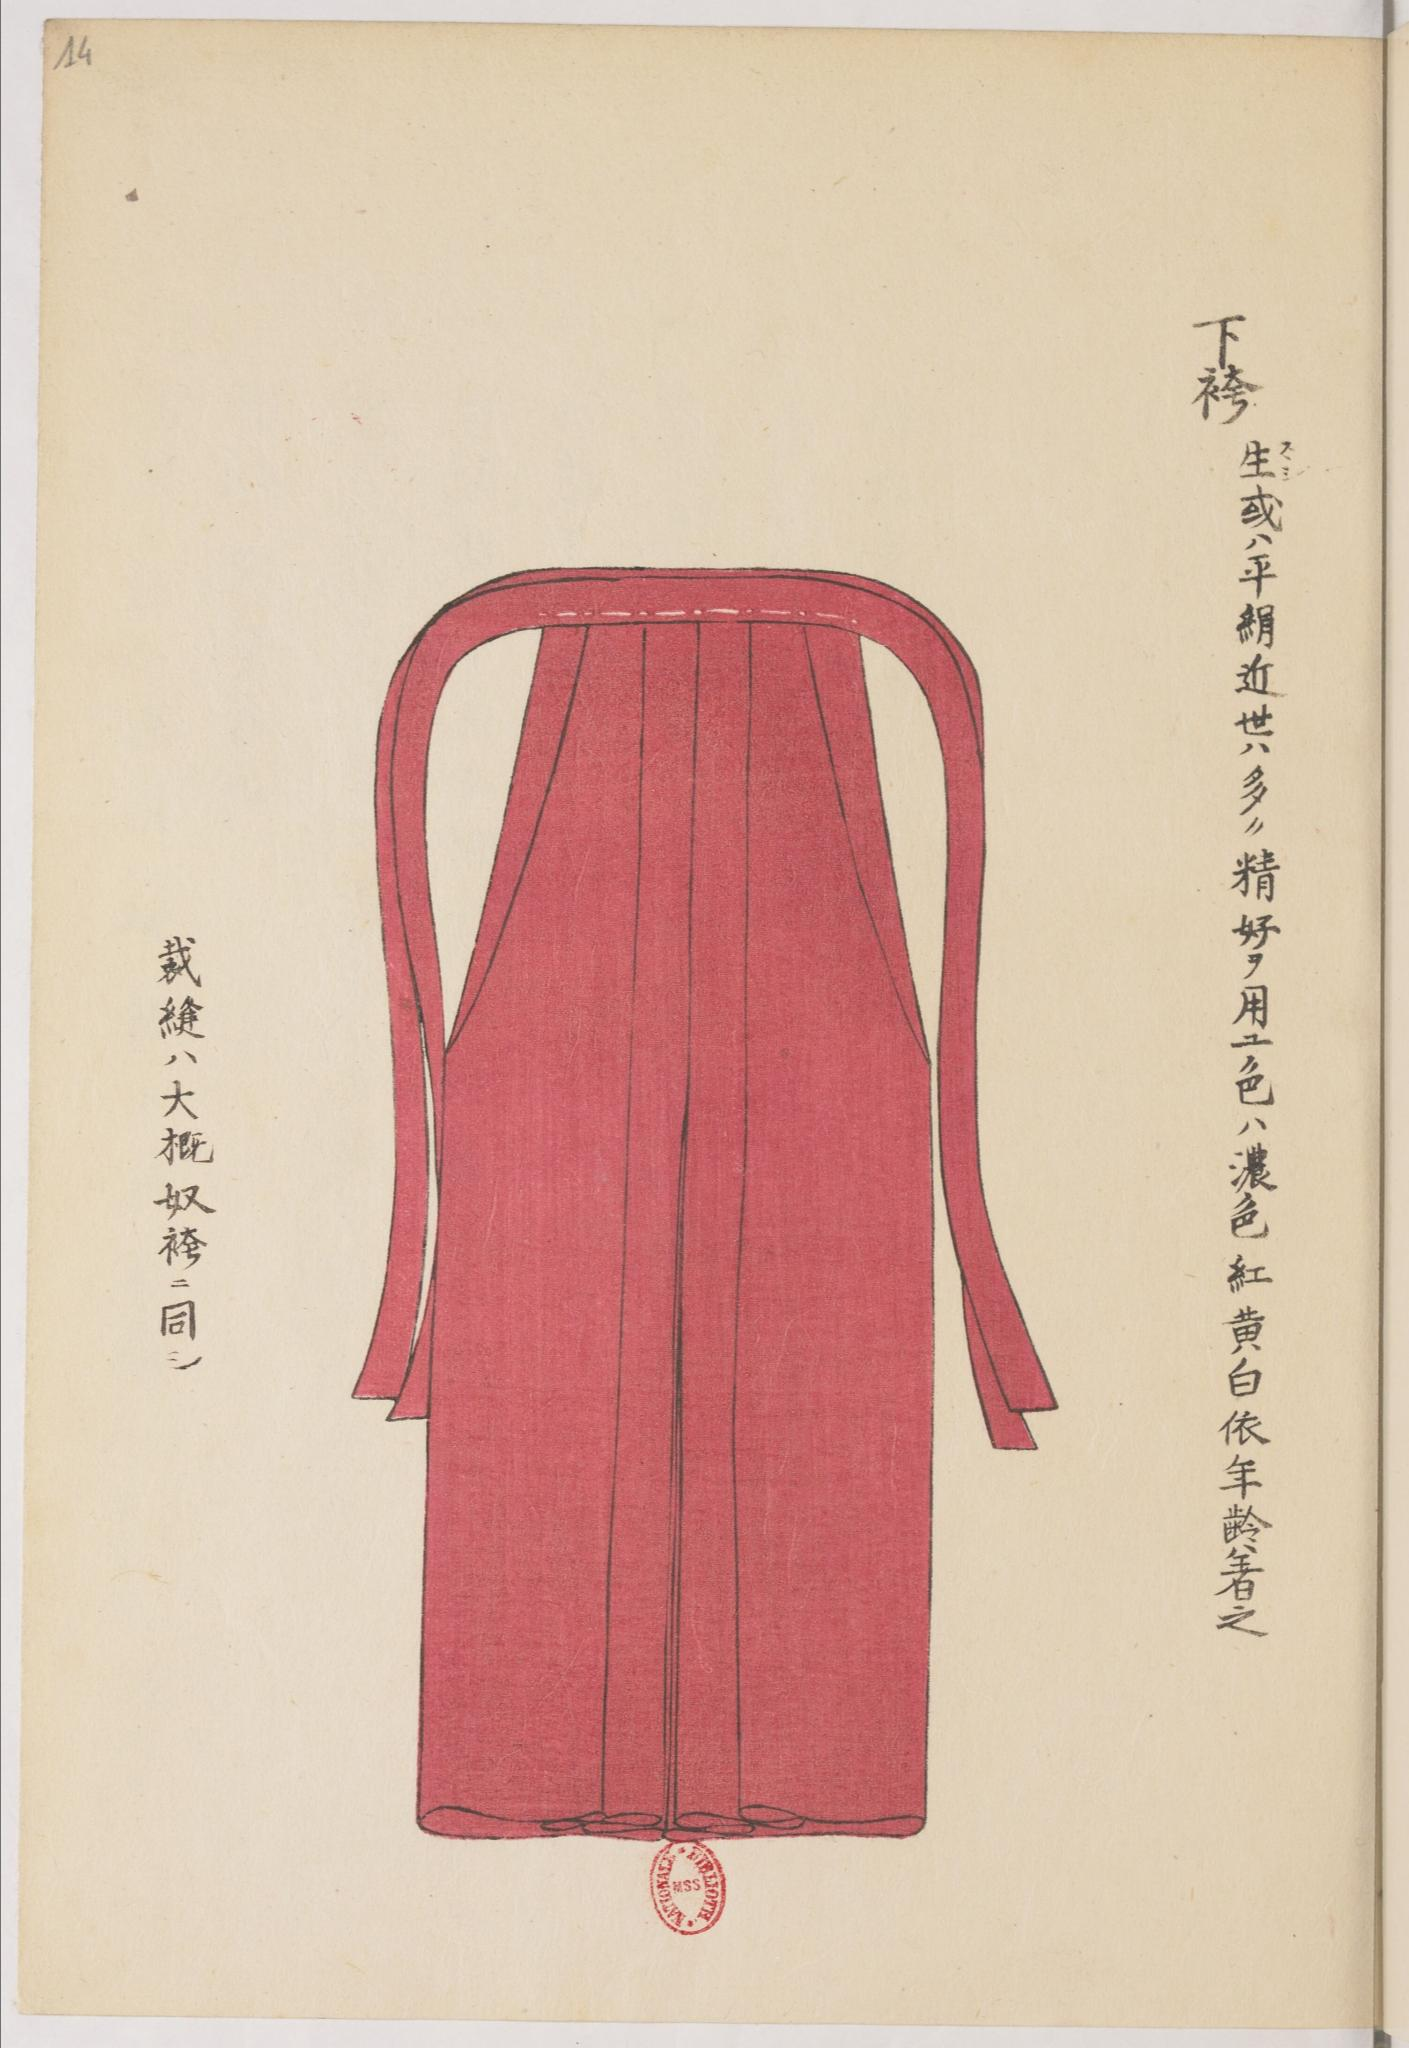MainZone-Character: (1236, 431, 1302, 482)
MainZone-Ruby: (1275, 433, 1302, 487)
